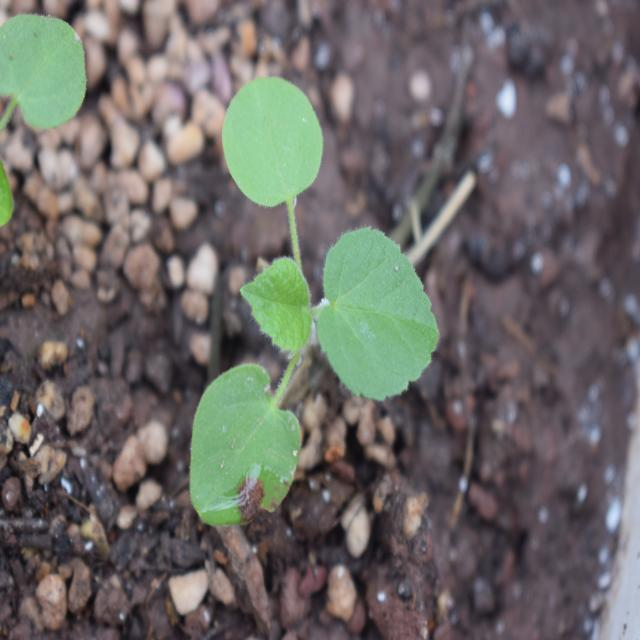abutilon theophrasti: (168, 56, 425, 529)
